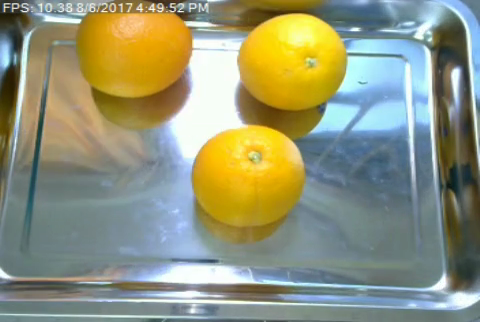Orange: (192, 124, 306, 228), (75, 2, 192, 97), (237, 11, 349, 110)
